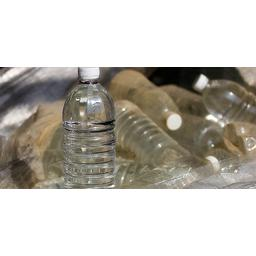plastic: (47, 66, 134, 205), (105, 62, 193, 134), (192, 67, 256, 124)
